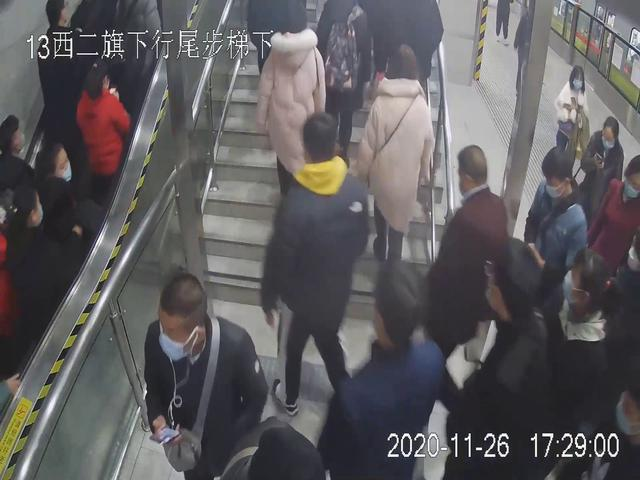person: (267, 113, 377, 409), (142, 272, 267, 480), (330, 271, 442, 478), (537, 251, 625, 480), (357, 41, 436, 284), (1, 183, 84, 380), (255, 13, 338, 197), (437, 139, 513, 324), (69, 60, 134, 191), (585, 109, 625, 231), (555, 64, 596, 161)
